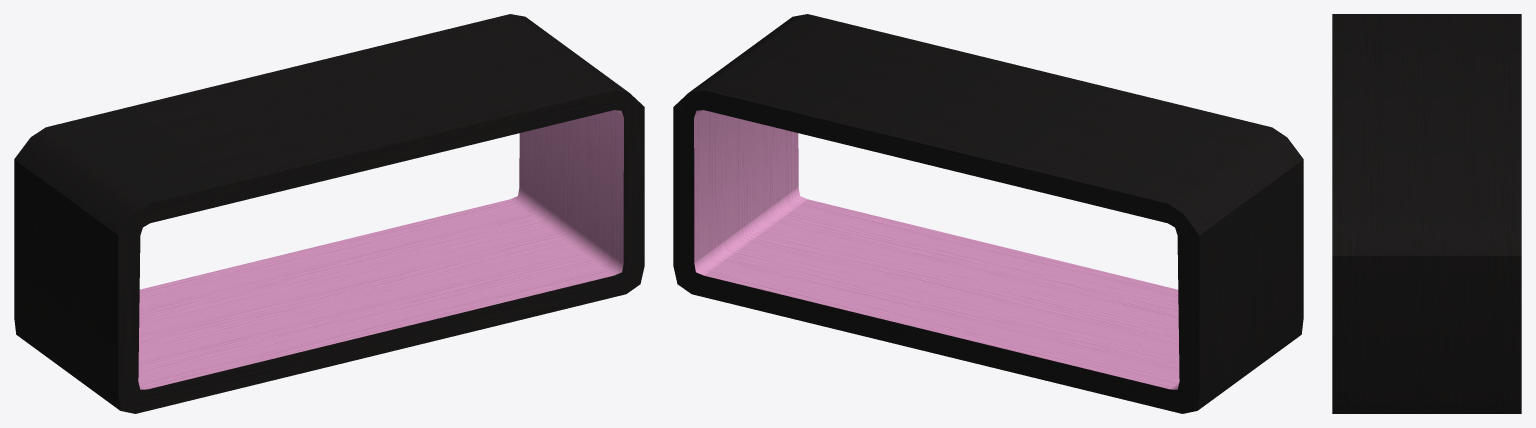
Rendered from Wall_Shelf_01_N.FBX.
3 renders of one model, left to right at view 1: azimuth 30°, elevation 25°; view 2: azimuth 150°, elevation 25°; view 3: azimuth 270°, elevation 25°, orthographic. The views are drawn at different scales.
Visible parts, largest first — view 1: Wall_Shelf; view 2: Wall_Shelf; view 3: Wall_Shelf.
Part boxes in pixels (x1=…): Wall_Shelf: x1=14, y1=14, x2=644, y2=413; Wall_Shelf: x1=673, y1=14, x2=1303, y2=413; Wall_Shelf: x1=1332, y1=14, x2=1521, y2=413.
Size of the model in its own units: 160 by 60.21 by 54.97.
